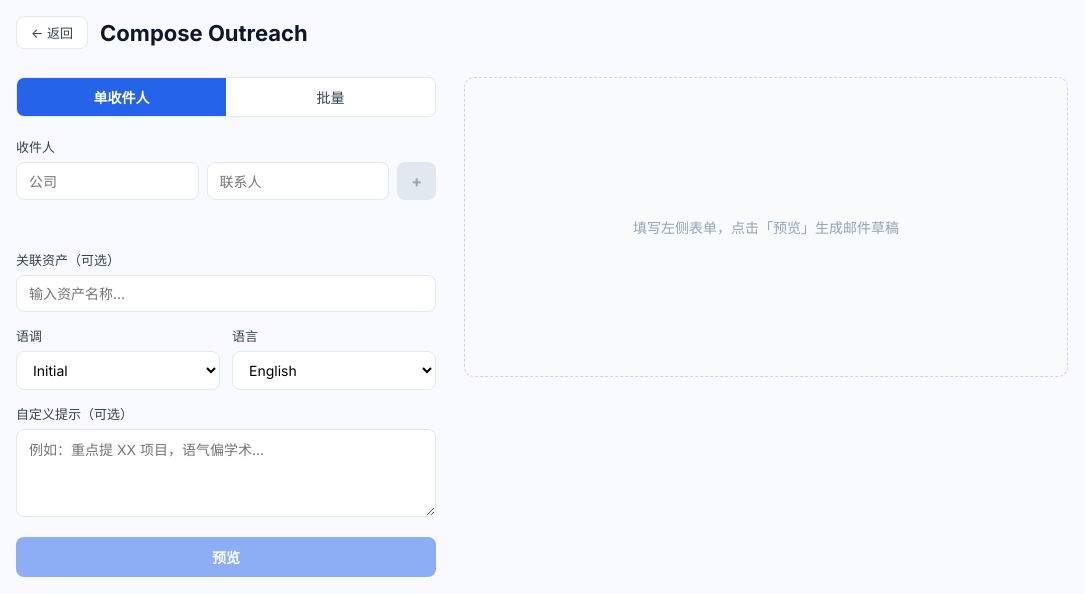
Scenario: ComposePage — preview button disabled state › preview button re-disables after removing the only recipient
The width and height of the screenshot is (1085, 594).
In the field with test id "chip-company": (107, 181) [16, 162, 199, 200], type "Acme"
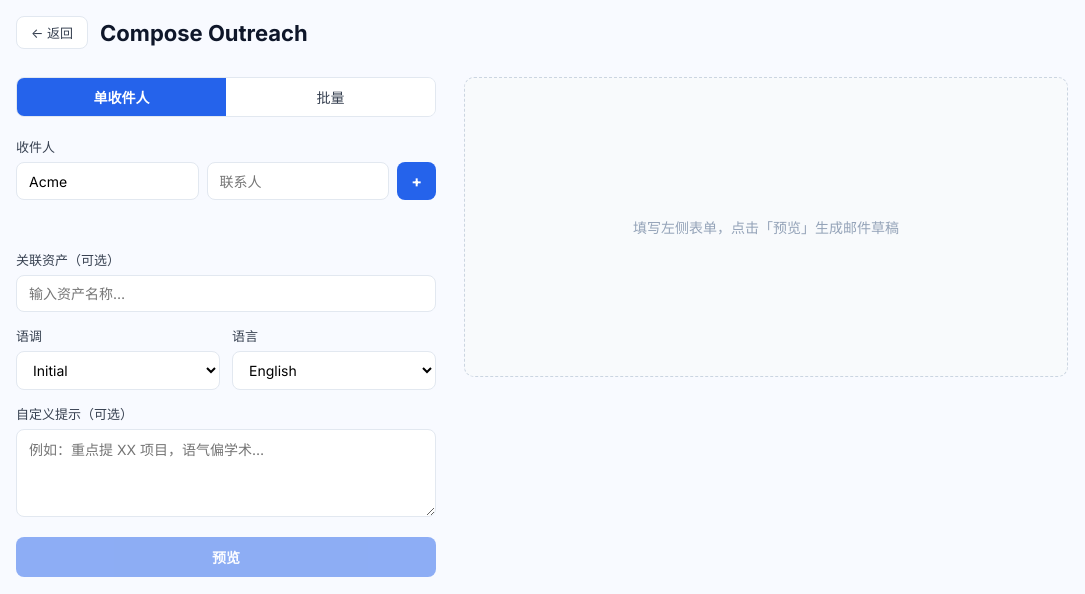
Click the button "+": (417, 181) [397, 162, 436, 200]
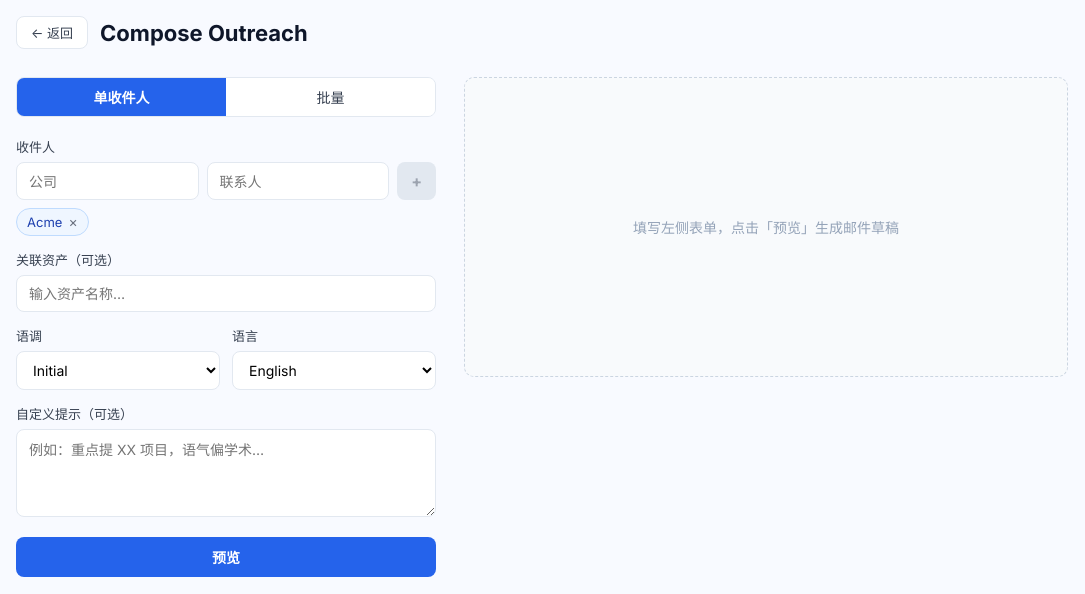
Result: the button with test id "btn-preview" is enabled at [16, 537, 436, 577]
Click the button "×": (73, 222) [68, 215, 78, 229]
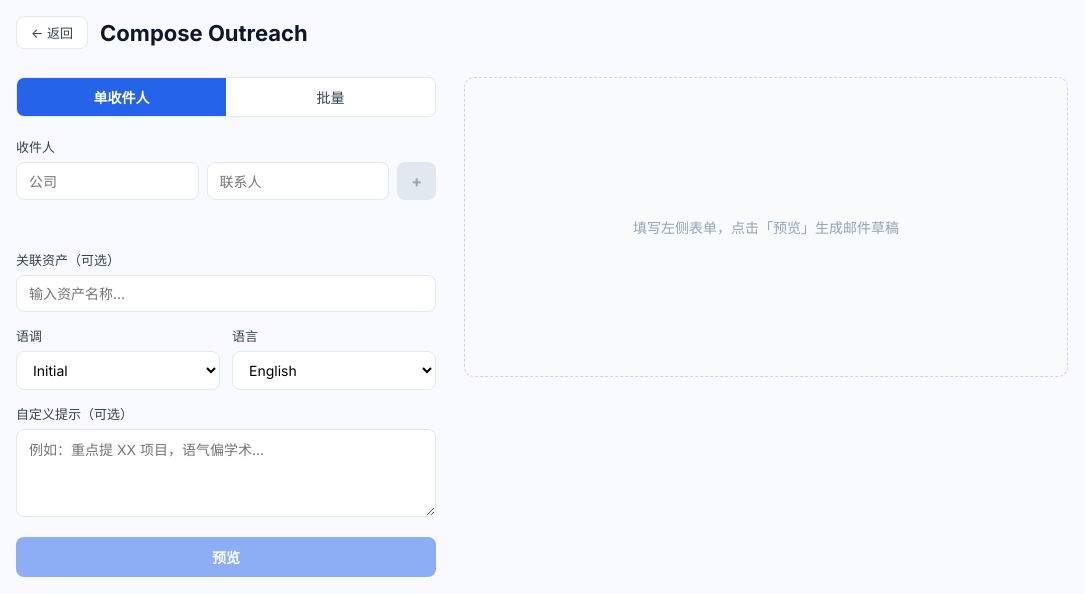
Result: the button with test id "btn-preview" is disabled at [16, 537, 436, 577]
